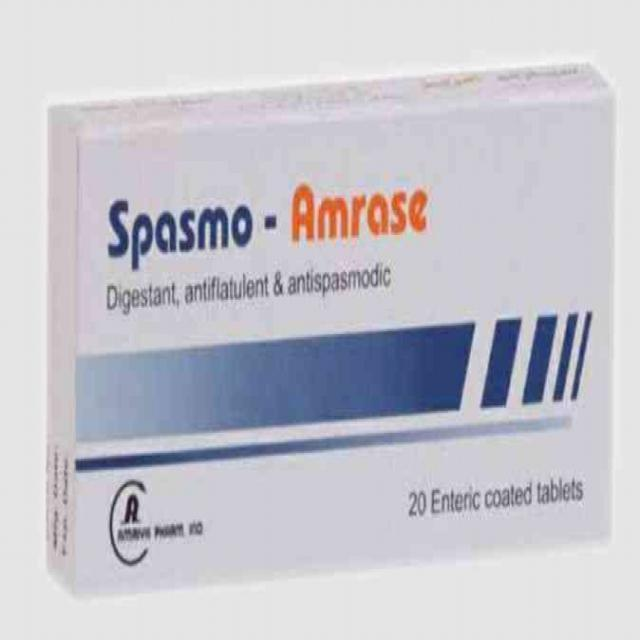drug-name: (101, 172, 431, 277)
